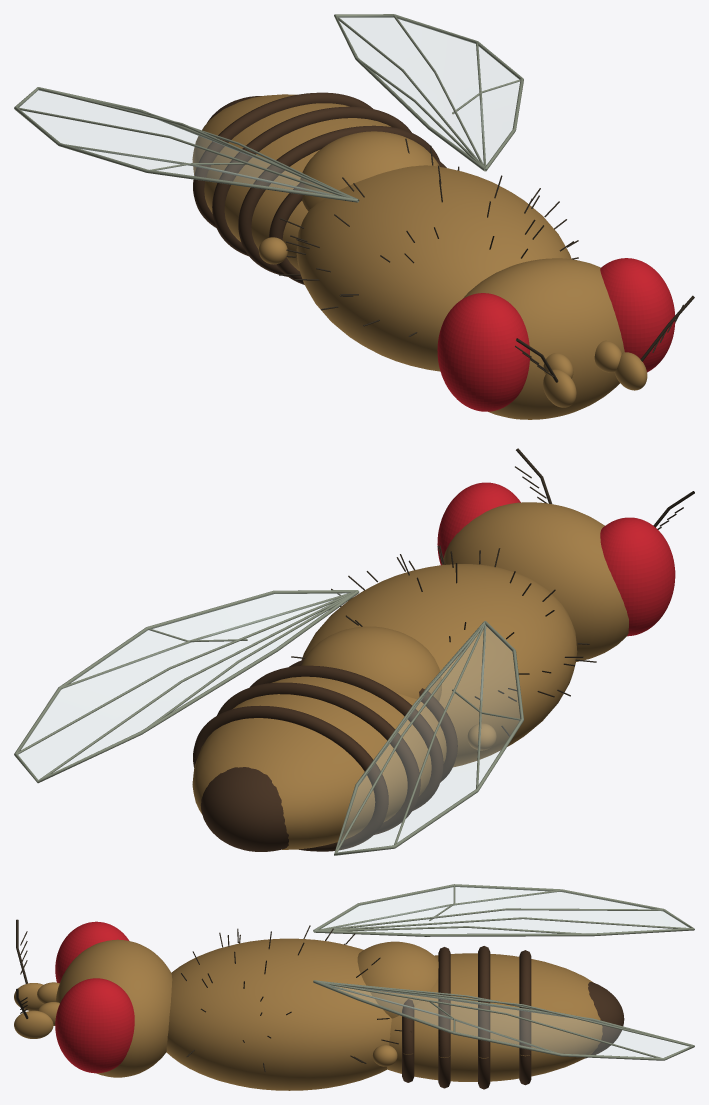
File: FlyVisual.fbx
The picture shows the model from 3 angles, top to bottom: view 1: azimuth 30°, elevation 25°; view 2: azimuth 150°, elevation 25°; view 3: azimuth 270°, elevation 25°; orthographic projection. The views are drawn at different scales.
Parts seen in each view (by area): view 1: ChitinGold, WingMembrane, EyeRuby, AbdomenDark, WingVein, Bristle; view 2: ChitinGold, WingMembrane, AbdomenDark, WingVein, EyeRuby, Bristle; view 3: ChitinGold, WingMembrane, WingVein, EyeRuby, AbdomenDark, Bristle.
Part boxes in pixels (x1,y1,x2,y2): ChitinGold: (192, 94, 647, 419); WingMembrane: (19, 16, 519, 194); EyeRuby: (437, 258, 675, 411); AbdomenDark: (193, 92, 446, 284); WingVein: (14, 14, 523, 202); Bristle: (279, 138, 694, 382); ChitinGold: (192, 502, 628, 849); WingMembrane: (18, 593, 519, 851); AbdomenDark: (193, 659, 457, 851); WingVein: (14, 590, 523, 855); EyeRuby: (437, 482, 675, 636); Bristle: (291, 448, 694, 736); ChitinGold: (14, 938, 602, 1090); WingMembrane: (321, 886, 689, 1057); WingVein: (313, 884, 694, 1060); EyeRuby: (55, 921, 134, 1073); AbdomenDark: (402, 946, 624, 1089); Bristle: (16, 919, 411, 1072).
Bounding box in the file's own units: 238 × 95.4 × 413.
